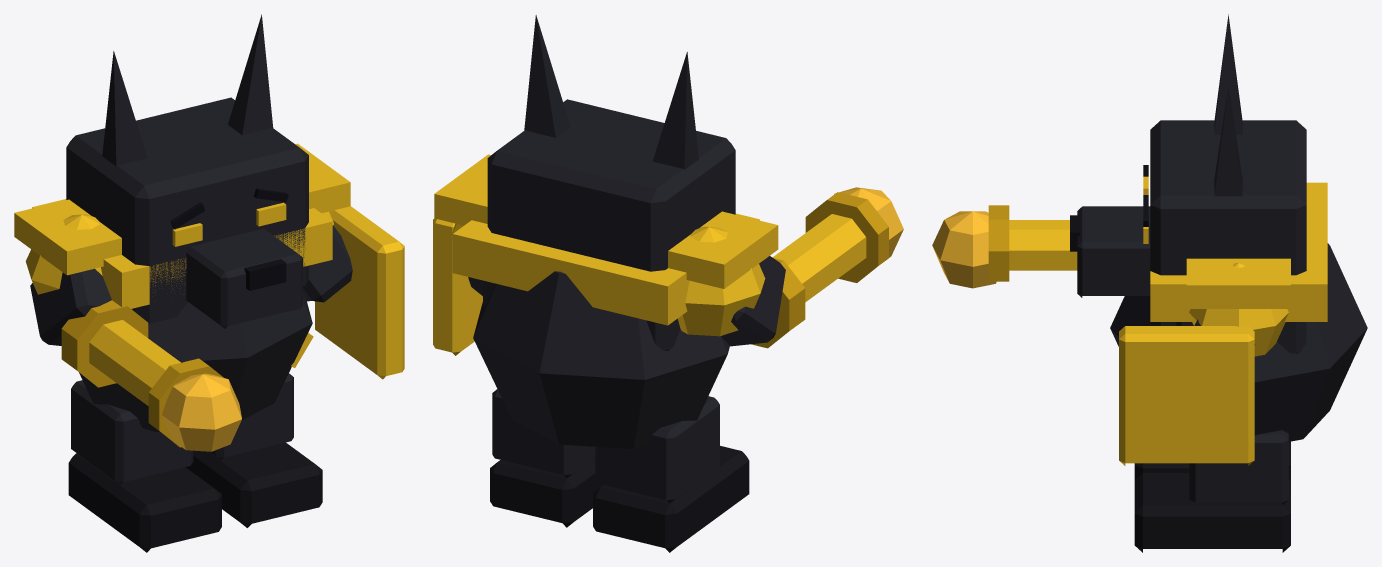
The model's file is r5_mini_anubis_gunner.glb.
3 renders of one model, left to right at view 1: azimuth 30°, elevation 25°; view 2: azimuth 150°, elevation 25°; view 3: azimuth 270°, elevation 25°, orthographic. The views are drawn at different scales.
Parts seen in each view (by area): view 1: r5_mini_anubis_gunner_mesh; view 2: r5_mini_anubis_gunner_mesh; view 3: r5_mini_anubis_gunner_mesh.
Part boxes in pixels (x1,y1,x2,y2): r5_mini_anubis_gunner_mesh: (14, 14, 404, 552); r5_mini_anubis_gunner_mesh: (433, 15, 903, 552); r5_mini_anubis_gunner_mesh: (932, 14, 1367, 552).
Bounding box in the file's own units: 2.71 × 3.8 × 3.24.
Materials: 1 (1 with a texture image).
